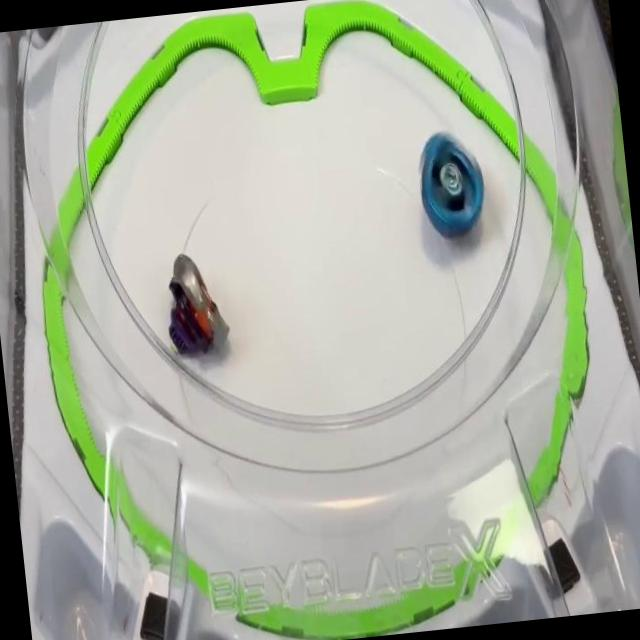Beyblade: (412, 126, 490, 242), (158, 248, 230, 359)
